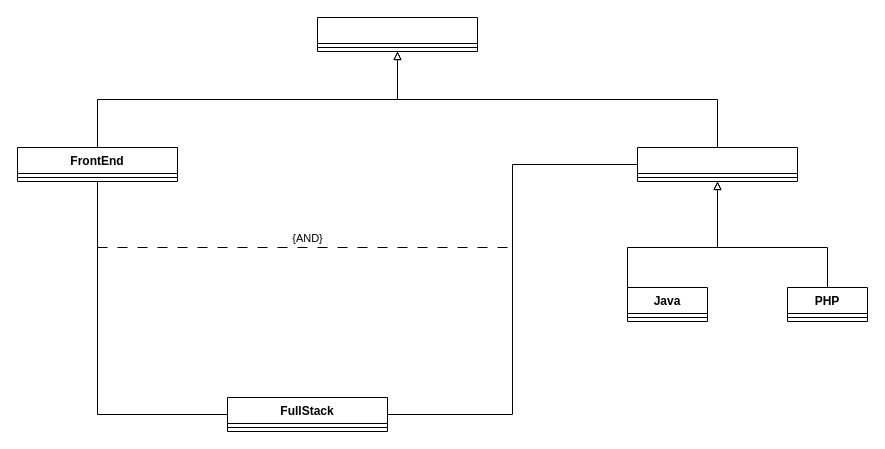
Image size: 885x449. Some labels were removed from this diagram. The shapes that lost their labels are listed below. From the top down, each one's centre as x and y in pixels, then its label:
At [397,34]: "Web developer".
At [717,164]: "BackEnd".
